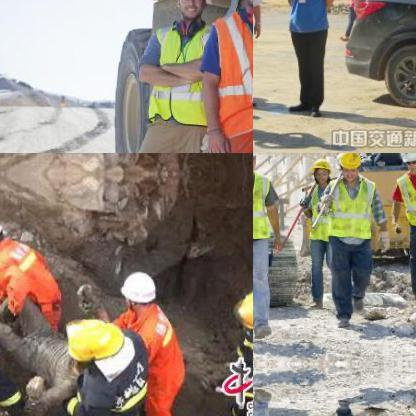Helmet: (64, 318, 132, 366), (121, 267, 157, 313), (169, 0, 210, 19), (237, 286, 252, 333), (335, 153, 362, 179), (310, 155, 332, 183), (0, 211, 9, 255), (399, 153, 415, 171)
